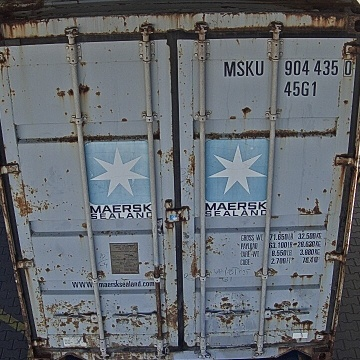serial_id: (224, 58, 353, 75)
